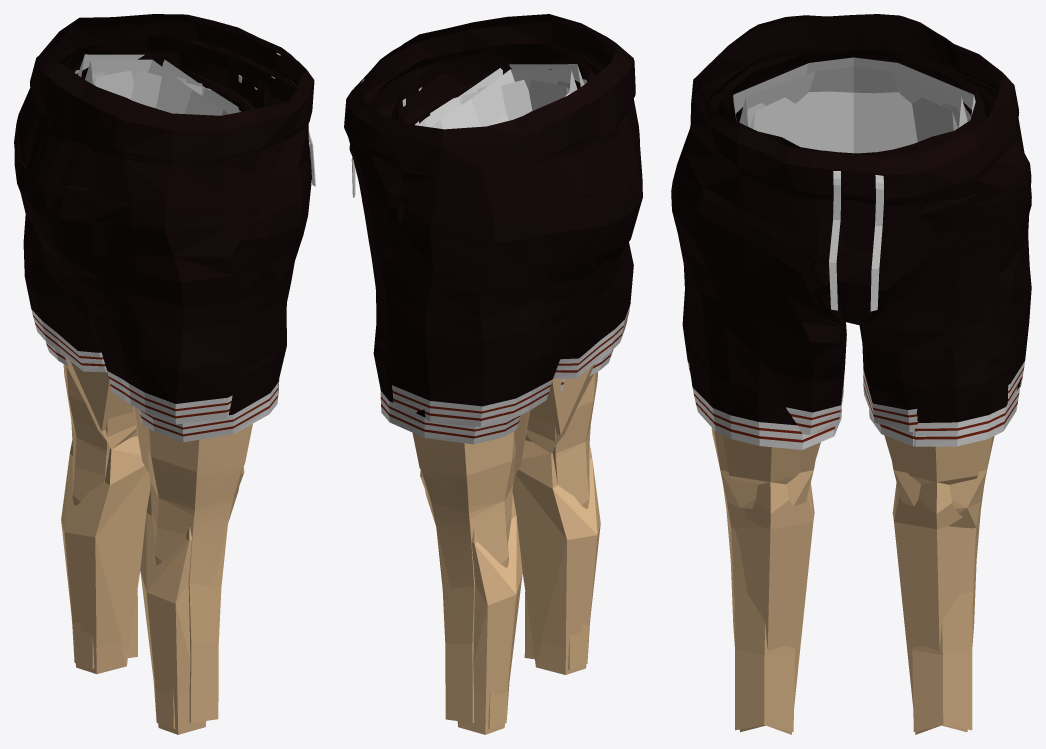
The model's file is &&BlackShorts.glb.
3 views of the same model, side by side, from view 1: azimuth 30°, elevation 25°; view 2: azimuth 150°, elevation 25°; view 3: azimuth 270°, elevation 25° (orthographic). The views are drawn at different scales.
Parts seen in each view (by area): view 1: legs_w, legs.001, legs_w.003, legs_w.001, legs, legs.002; view 2: legs_w, legs.001, legs_w.003, legs_w.001, legs.002, legs; view 3: legs_w, legs.001, legs, legs.002, legs_w.003, legs_w.001.
Part boxes in pixels (box(x1,y1,x2,y2)): legs_w: box(14, 14, 315, 698); legs.001: box(37, 42, 296, 641); legs_w.003: box(64, 35, 270, 729); legs_w.001: box(70, 40, 270, 734); legs: box(92, 51, 274, 722); legs.002: box(76, 67, 274, 705); legs_w: box(344, 14, 642, 699); legs.001: box(349, 43, 631, 643); legs_w.003: box(394, 44, 595, 729); legs_w.001: box(396, 49, 590, 734); legs.002: box(391, 60, 580, 677); legs: box(392, 81, 570, 723); legs_w: box(671, 14, 1031, 707); legs.001: box(687, 47, 1026, 623); legs: box(733, 103, 973, 732); legs.002: box(736, 91, 972, 730); legs_w.003: box(720, 50, 985, 155); legs_w.001: box(715, 54, 986, 734).
Size of the model in its own units: 0.5261 by 1.19 by 0.5708.
